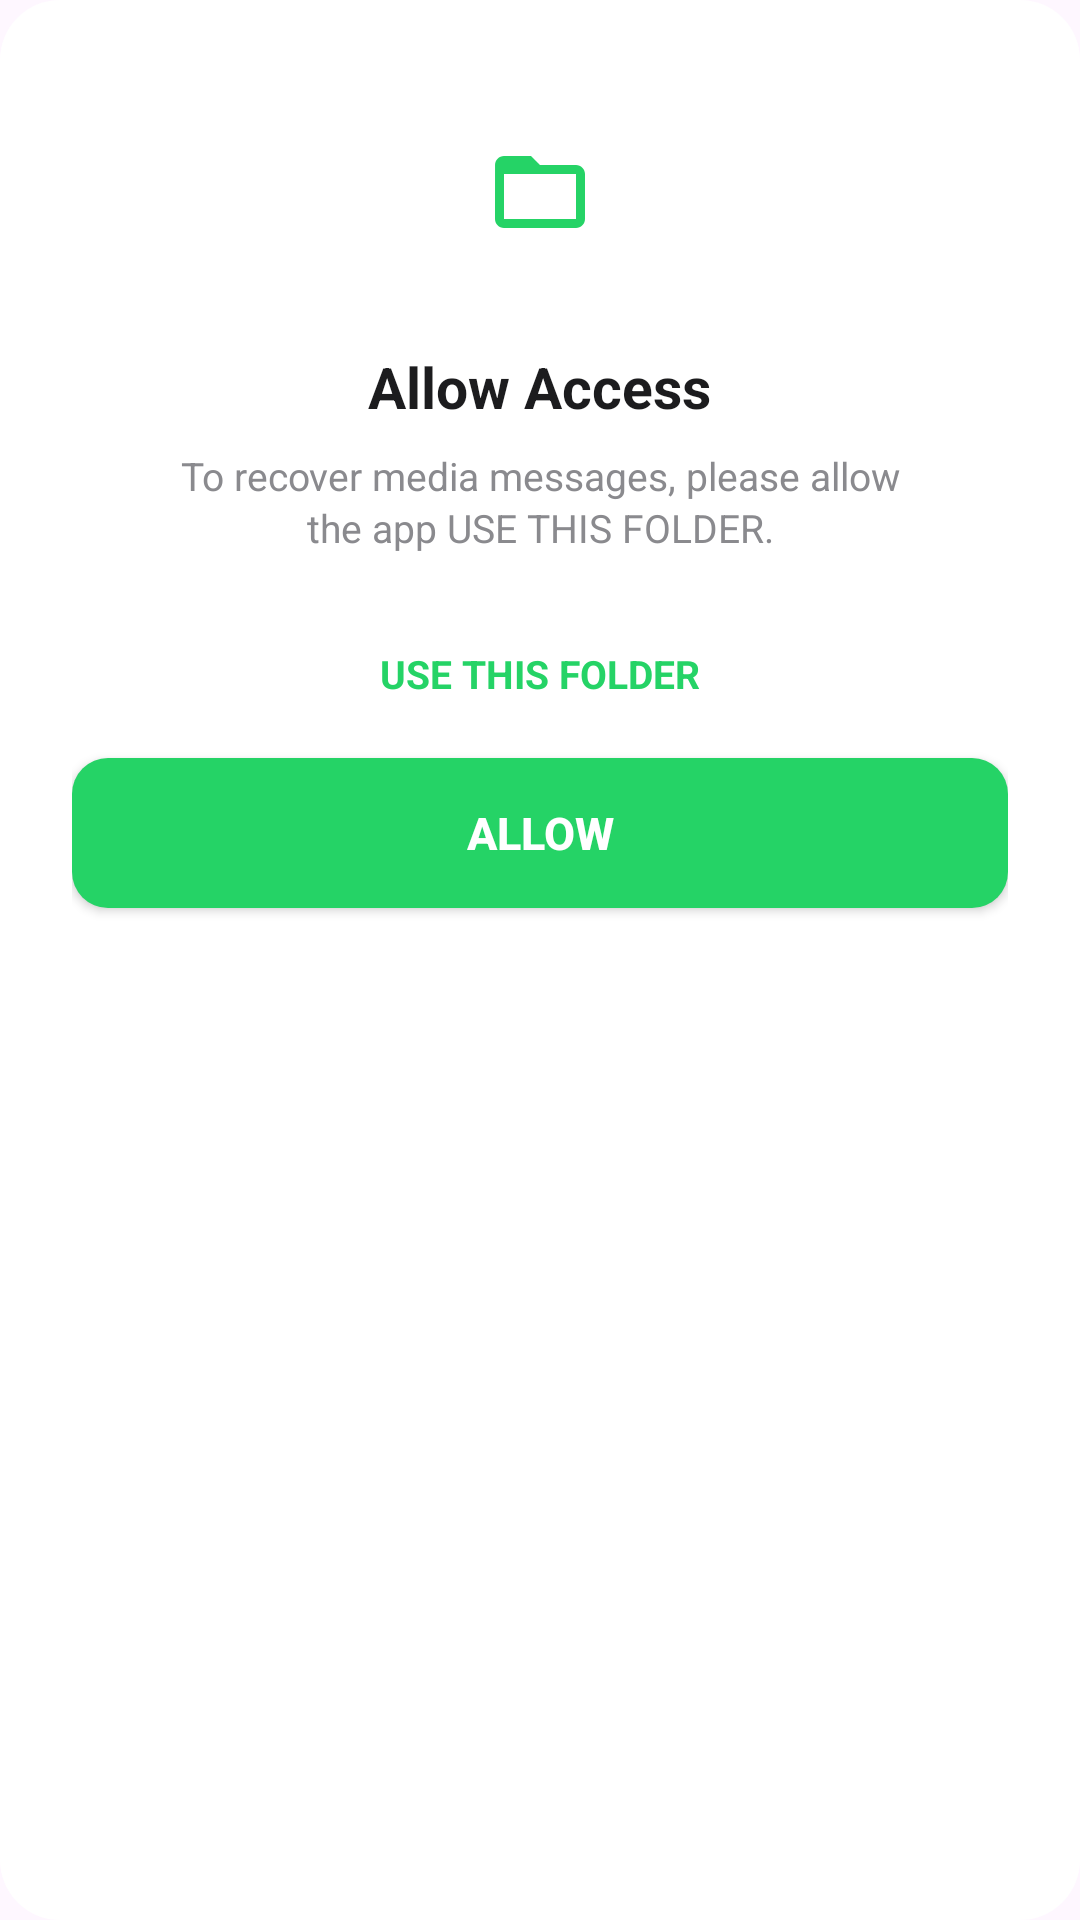

Locate icon controls on the screen. Image size 1080w x 1920h, boxes as detection(x1, y1, x2, y2).
Folder: detection(495, 156, 585, 228)
